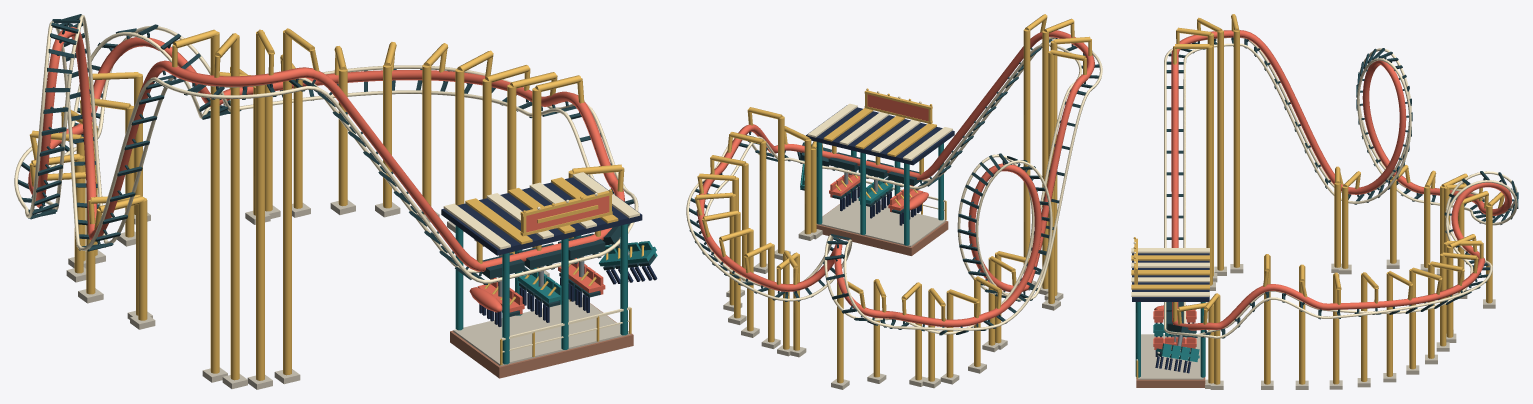
Rendered from ride_inverted.glb.
3 renders of one model, left to right at view 1: azimuth 30°, elevation 25°; view 2: azimuth 150°, elevation 25°; view 3: azimuth 270°, elevation 25°, orthographic. The views are drawn at different scales.
Visible parts, largest first — view 1: ride_inverted; view 2: ride_inverted; view 3: ride_inverted.
Part boxes in pixels (x1,y1,x2,y2): ride_inverted: (14,14,657,389); ride_inverted: (686,14,1102,389); ride_inverted: (1131,14,1518,389).
Bounding box in the file's own units: 18.23 × 12.64 × 17.94.
